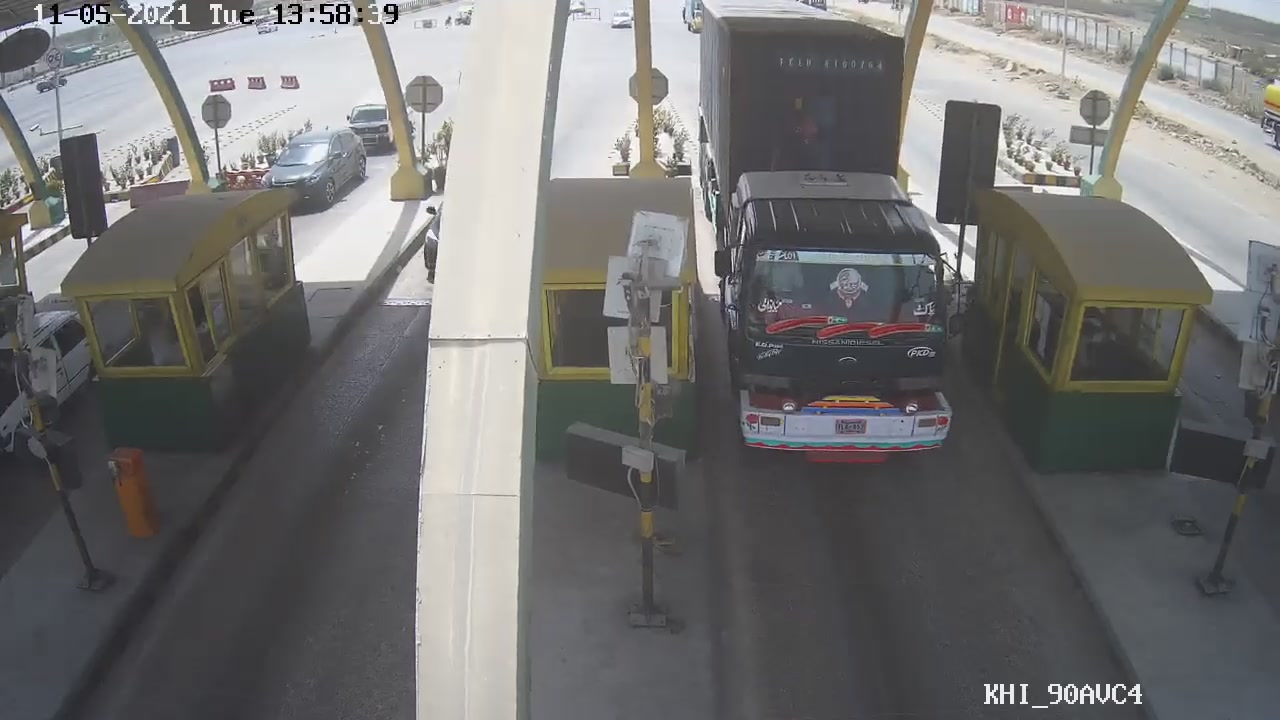F6: (694, 37, 993, 470)
